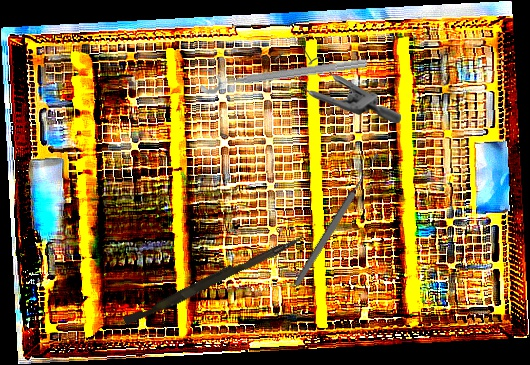Fixation Ring: (197, 44, 369, 96)
Pusher: (122, 227, 306, 331)
Speculum: (274, 35, 401, 123)
Surgical Spoon: (292, 151, 382, 288)
